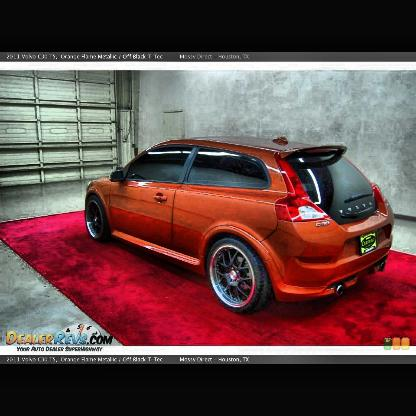Volvo C30 Hatchback 2012: (87, 136, 394, 320)
